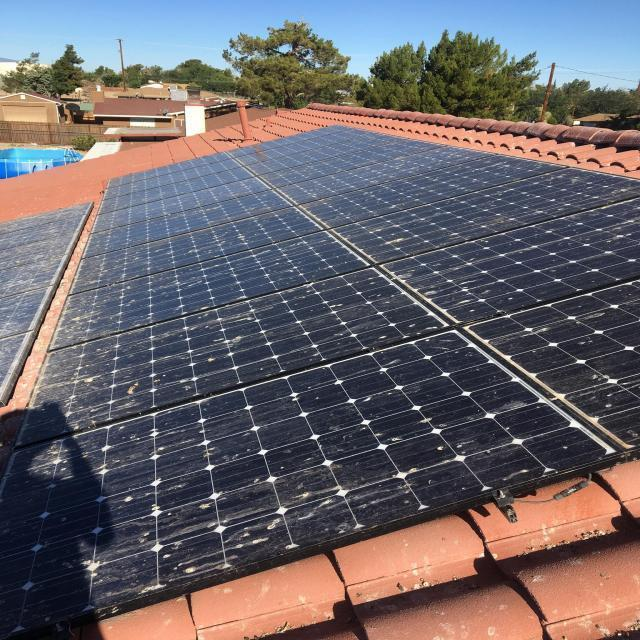Anomaly Solar Panel: (0, 149, 614, 639), (227, 123, 640, 448)
Surface Contaminant: (0, 152, 615, 639), (230, 124, 638, 443)
